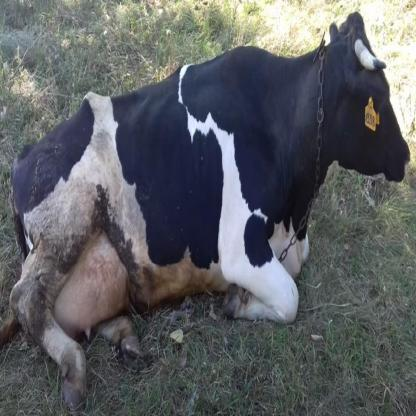cow: (11, 12, 408, 416)
